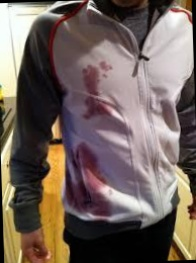wine: (77, 139, 108, 214), (76, 95, 117, 121), (80, 64, 99, 115), (66, 159, 83, 205), (97, 61, 114, 79)
